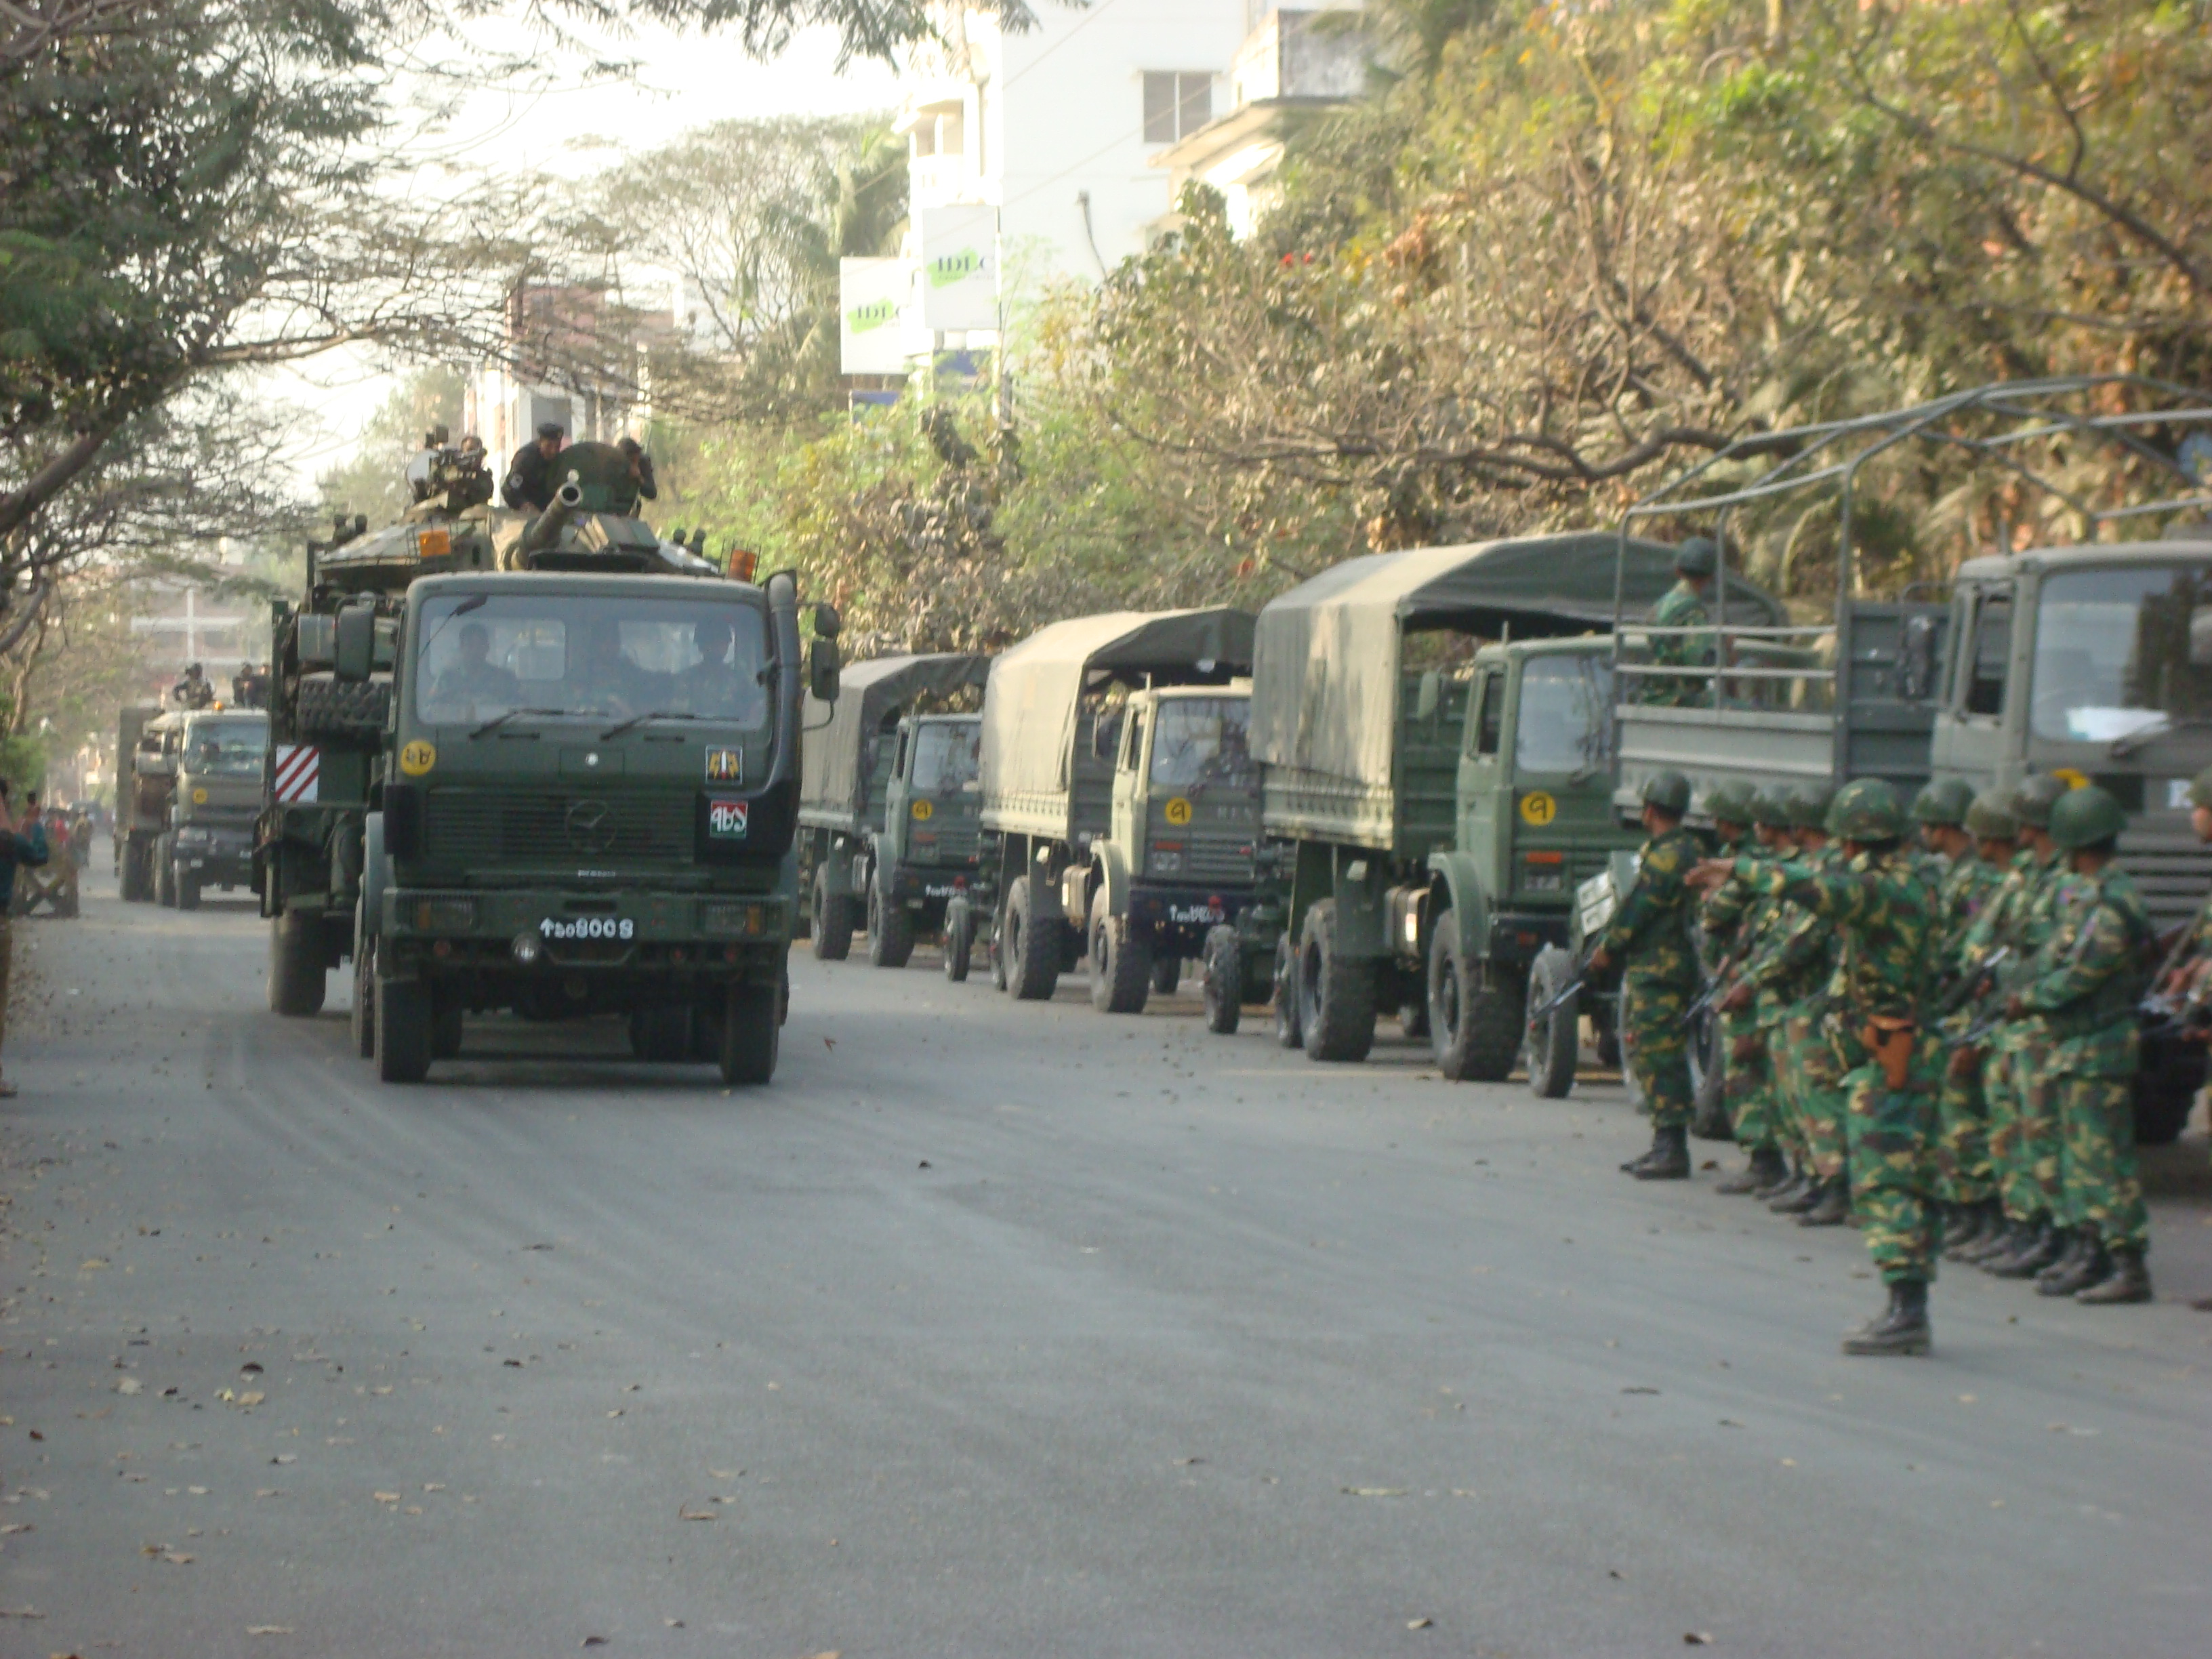army vehicle: (1599, 368, 2212, 1141), (251, 418, 855, 1089), (1245, 528, 1791, 1082), (977, 601, 1263, 1011), (805, 652, 982, 969), (110, 695, 265, 911)
